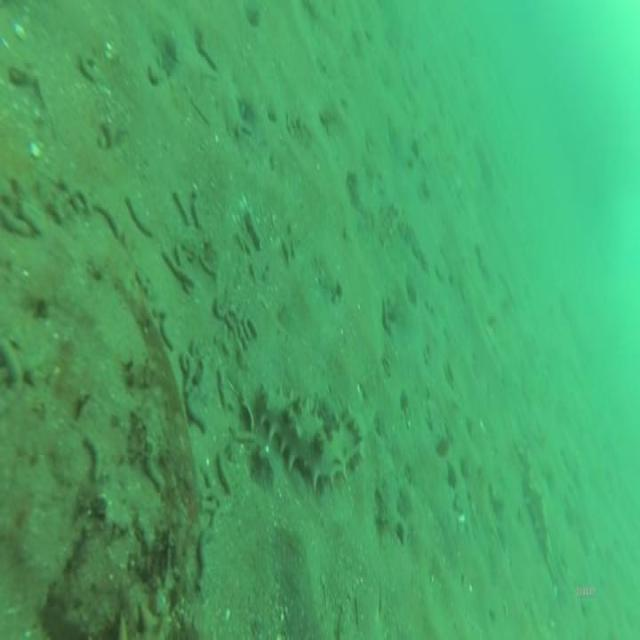holothurian: (255, 376, 365, 492)
